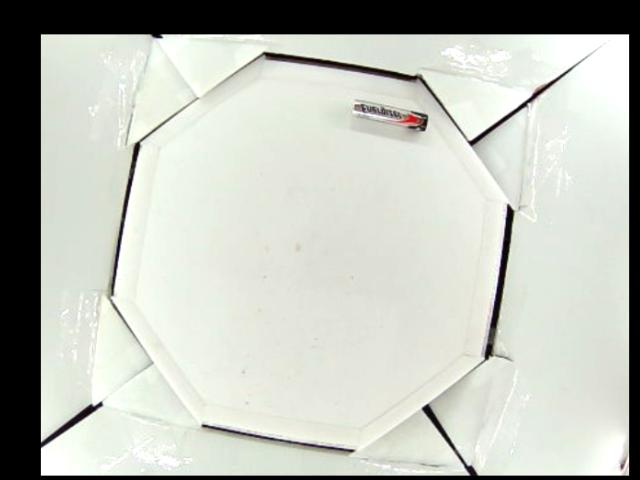Battery: (350, 97, 428, 132)
